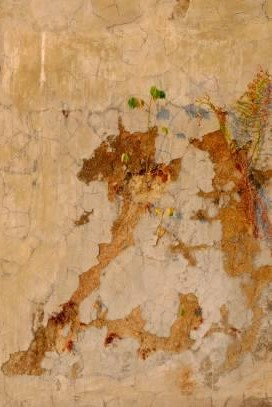Corrosion: (1, 114, 183, 378), (187, 67, 272, 278), (197, 265, 272, 392), (82, 291, 204, 361), (74, 208, 93, 228)
